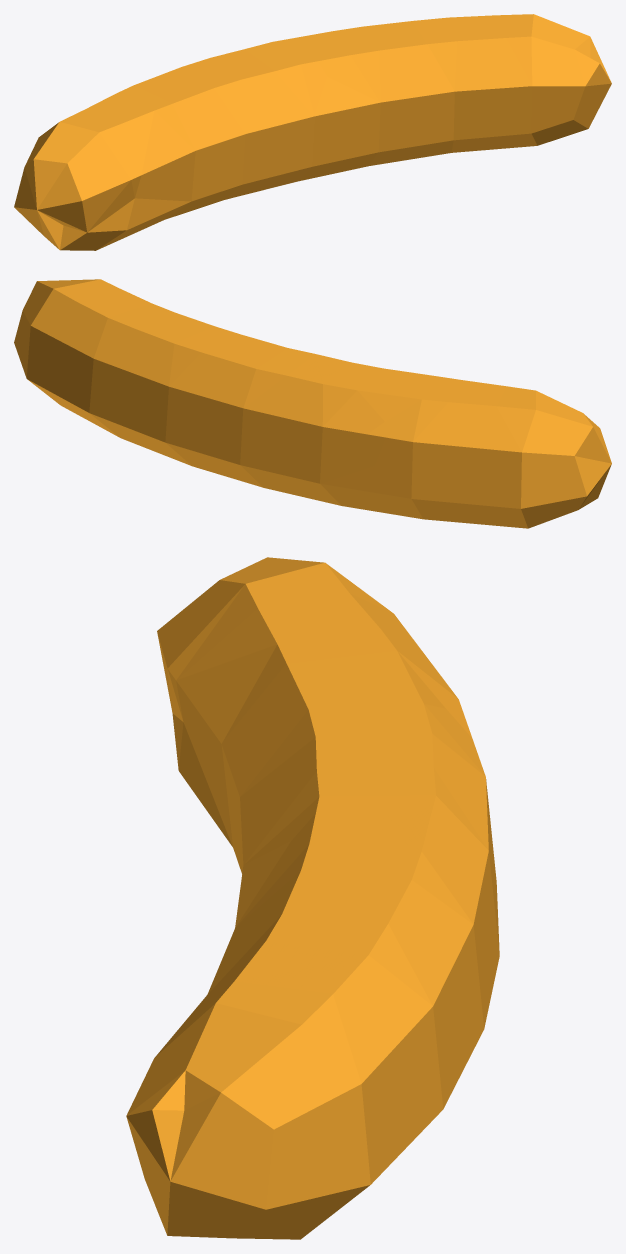
The model's file is SM_Meat_Sausage_Grilled.fbx.
3 renders of one model, top to bottom at view 1: azimuth 30°, elevation 25°; view 2: azimuth 150°, elevation 25°; view 3: azimuth 270°, elevation 25°, orthographic. The views are drawn at different scales.
Visible parts, largest first — view 1: meat-sausage-grilled; view 2: meat-sausage-grilled; view 3: meat-sausage-grilled.
Boxes of the visible parts, x1,y1,x2,y2 form: meat-sausage-grilled: [14, 14, 611, 250]; meat-sausage-grilled: [14, 279, 611, 528]; meat-sausage-grilled: [126, 557, 499, 1239].
Bounding box in the file's own units: 0.2427 × 0.0488 × 0.0697.
